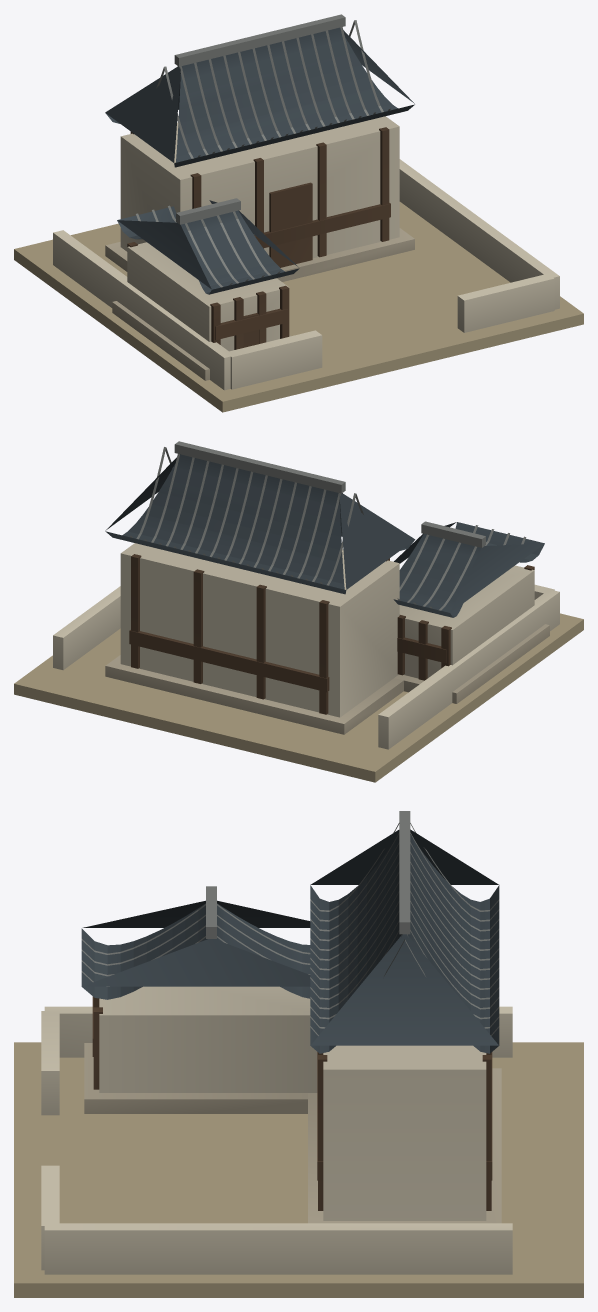
Rendered from hostel-2.glb.
3 views of the same model, one above another, from view 1: azimuth 30°, elevation 25°; view 2: azimuth 150°, elevation 25°; view 3: azimuth 270°, elevation 25° (orthographic). The views are drawn at different scales.
Visible parts, largest first — view 1: hostel 2 1, hostel 2 4, hostel 2 2, hostel 2 3, hostel 2 5, hostel 2 0; view 2: hostel 2 1, hostel 2 2, hostel 2 4, hostel 2 3, hostel 2 5, hostel 2 0; view 3: hostel 2 1, hostel 2 4, hostel 2 2, hostel 2 0, hostel 2 5, hostel 2 3.
Part boxes in pixels (x1,y1,x2,y2): hostel 2 1: [53, 116, 559, 390]; hostel 2 4: [14, 202, 583, 412]; hostel 2 2: [105, 27, 414, 294]; hostel 2 3: [127, 127, 390, 349]; hostel 2 5: [136, 14, 390, 287]; hostel 2 0: [105, 228, 414, 380]; hostel 2 1: [53, 543, 559, 749]; hostel 2 2: [105, 454, 544, 617]; hostel 2 4: [14, 613, 583, 782]; hostel 2 3: [129, 554, 534, 714]; hostel 2 5: [130, 441, 526, 610]; hostel 2 0: [105, 624, 549, 734]; hostel 2 1: [41, 986, 512, 1274]; hostel 2 4: [14, 1042, 583, 1297]; hostel 2 2: [81, 829, 499, 1053]; hostel 2 0: [84, 1043, 501, 1223]; hostel 2 5: [81, 811, 499, 1035]; hostel 2 3: [92, 996, 492, 1210].
Size of the model in its own units: 2.8 by 1.68 by 2.8.
